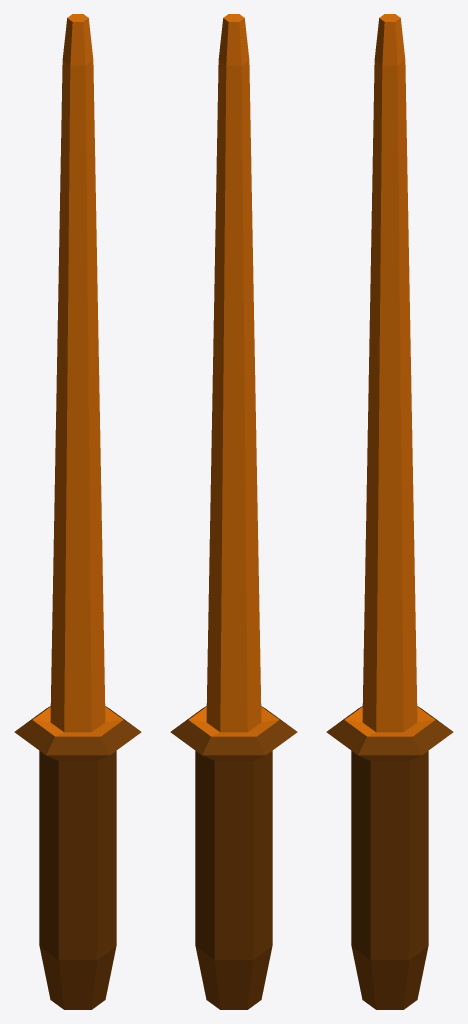
File: Wand.fbx
3 views of the same model, side by side, from view 1: azimuth 30°, elevation 25°; view 2: azimuth 150°, elevation 25°; view 3: azimuth 330°, elevation 25° (orthographic).
Parts seen in each view (by area): view 1: Wand; view 2: Wand; view 3: Wand.
Boxes of the visible parts, left/top/right/bottom form: Wand: left=14, top=14, right=141, bottom=1009; Wand: left=170, top=14, right=297, bottom=1009; Wand: left=326, top=14, right=453, bottom=1009.
Size of the model in its own units: 4.02 by 39.38 by 4.64.
